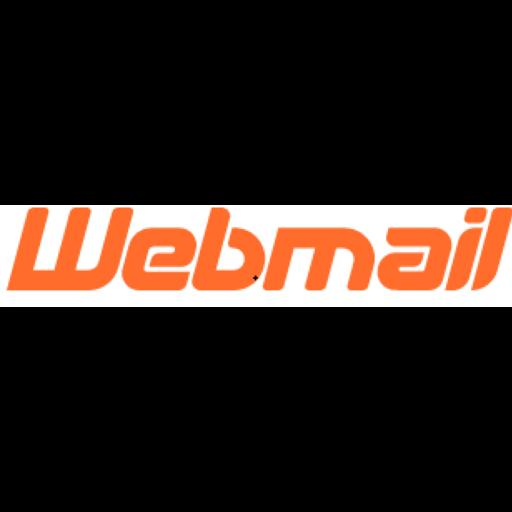Webmail Provider: (0, 205, 512, 307)
